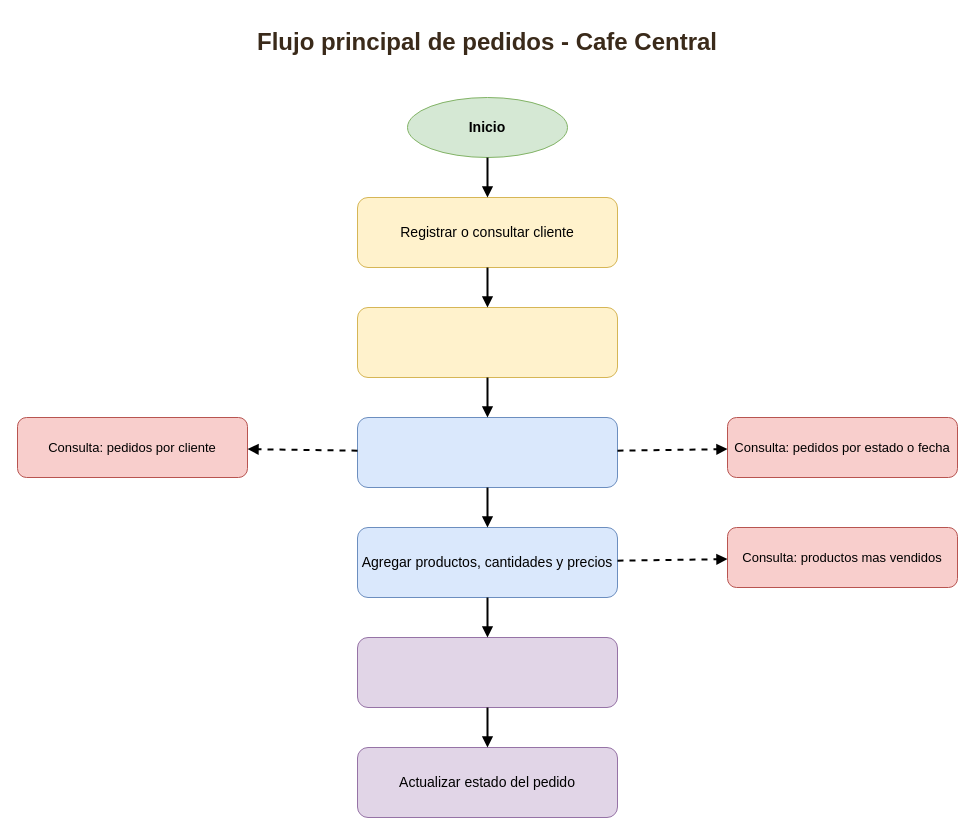
Image size: 975x835. Some labels were removed from this diagram. Here are the shapes that lost their labels. From the top down, the box of each, then its label:
(356, 306, 618, 378): Consultar productos disponibles
(356, 416, 618, 488): Crear pedido
(356, 636, 618, 708): Calcular subtotal y total
